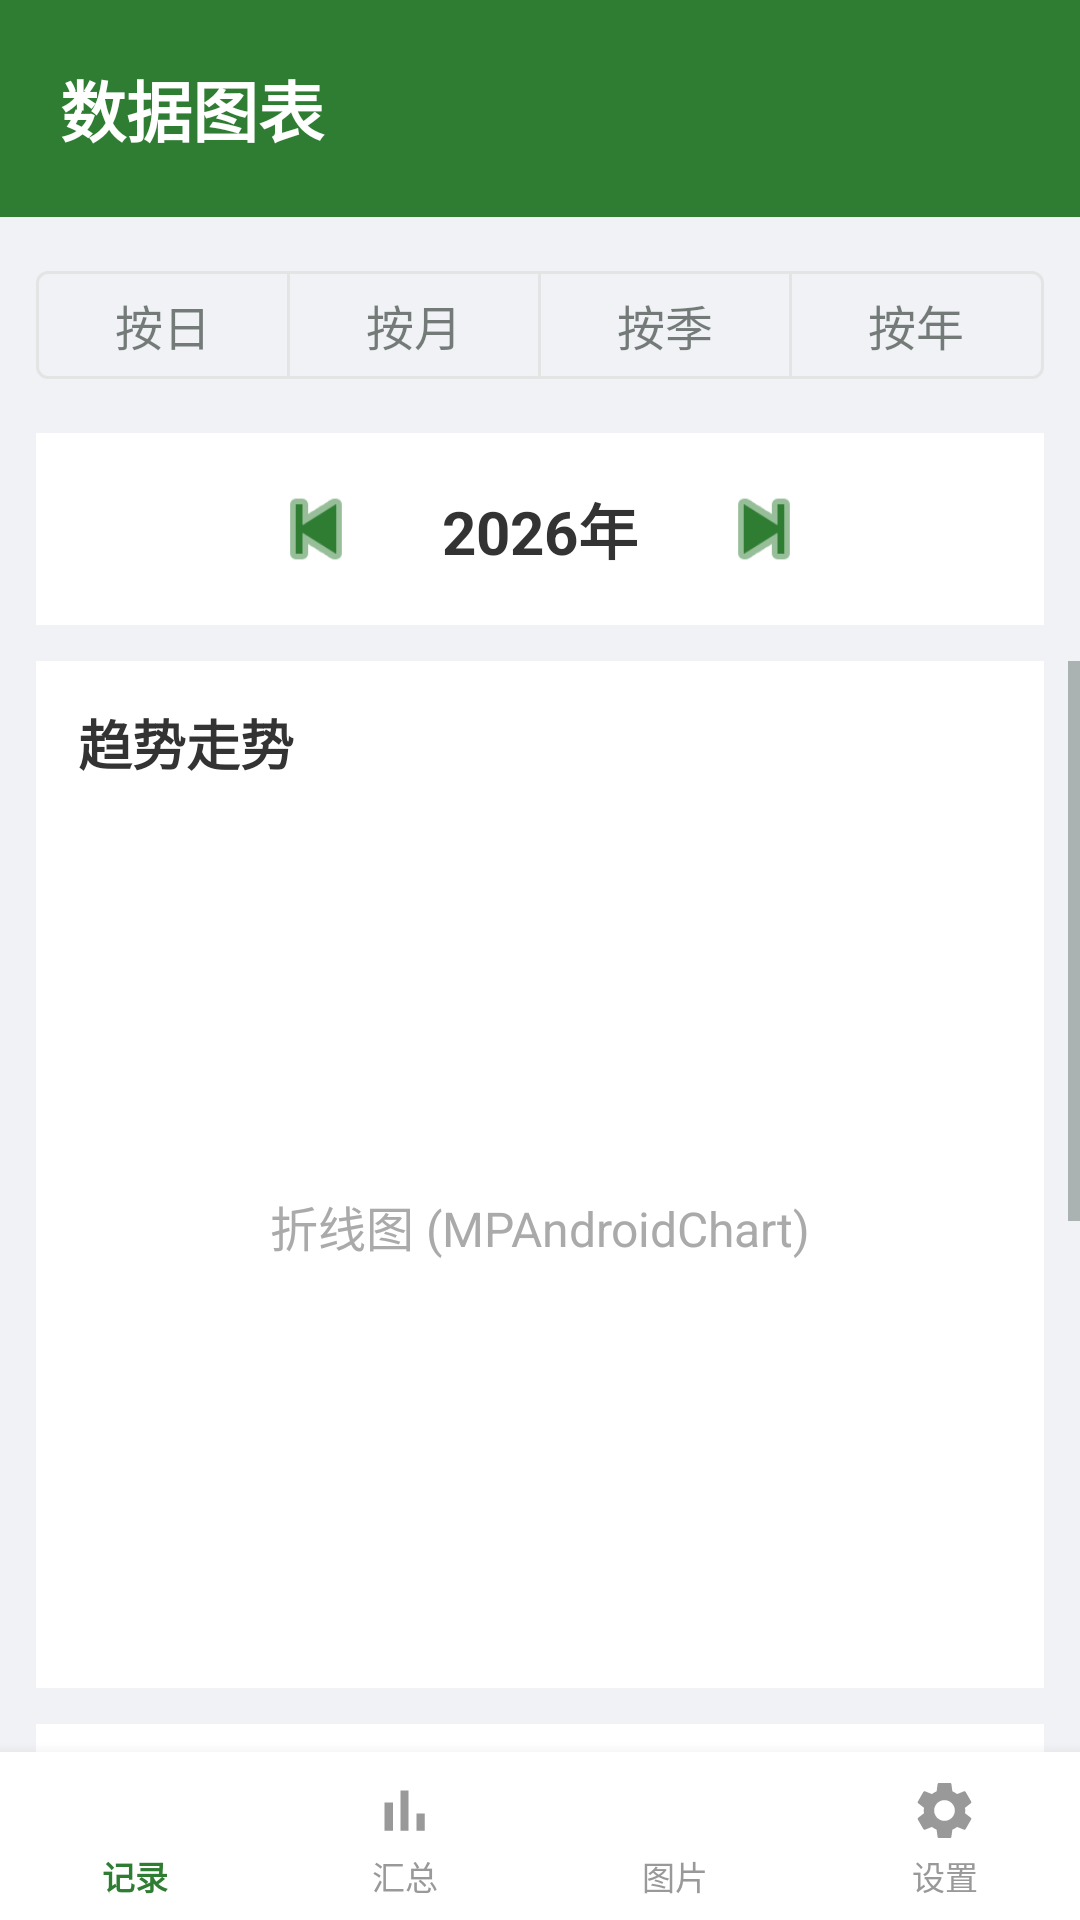

Icon bounding boxes for this 1080 × 1920 phone screenshot, format region(x1, y1, x2, y2):
上一个: region(290, 498, 342, 560)
下一个: region(738, 498, 790, 560)
